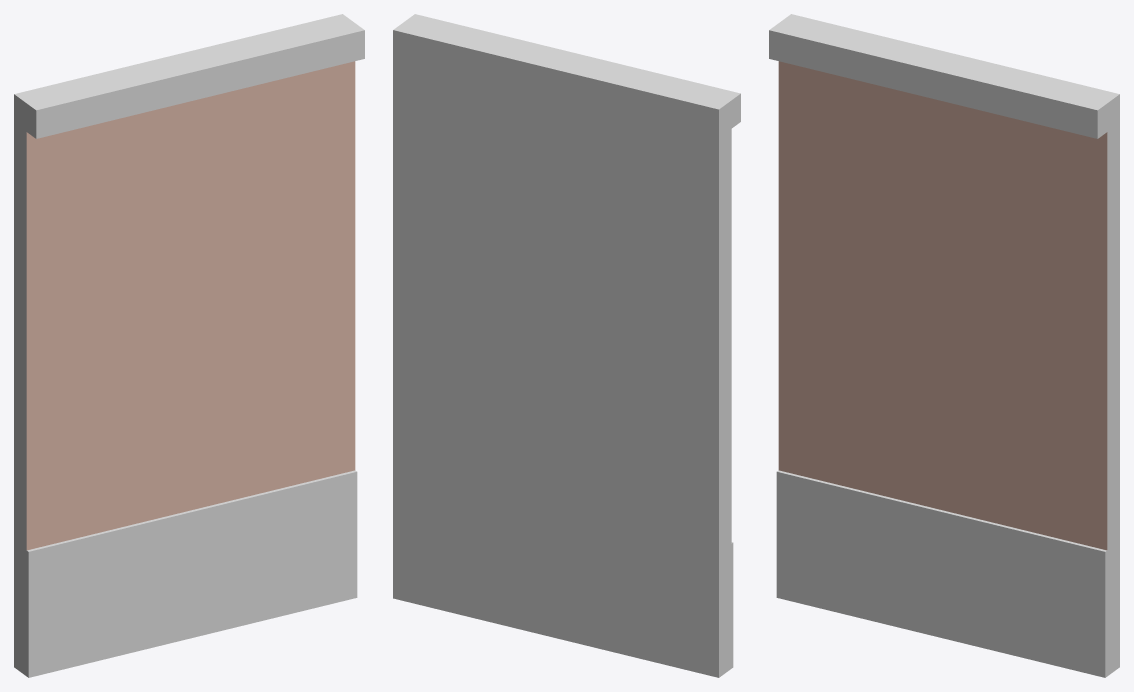
File: Entrance_Wall.fbx
3 views of the same model, side by side, from view 1: azimuth 30°, elevation 25°; view 2: azimuth 150°, elevation 25°; view 3: azimuth 330°, elevation 25° (orthographic).
Visible parts, largest first — view 1: Entrance_Wall; view 2: Entrance_Wall; view 3: Entrance_Wall.
Part boxes in pixels (bbox=[...]): Entrance_Wall: bbox=[14, 14, 364, 677]; Entrance_Wall: bbox=[393, 14, 740, 677]; Entrance_Wall: bbox=[769, 14, 1119, 677].
Bounding box in the file's own units: 3 × 5 × 0.35.
